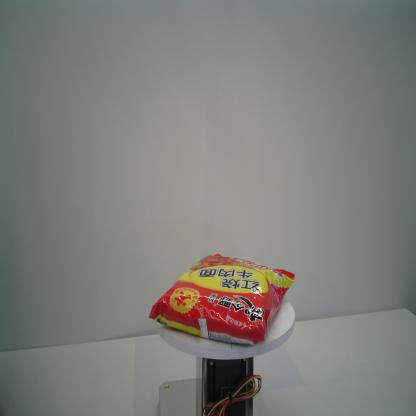Instant Noodles: (148, 252, 296, 346)
